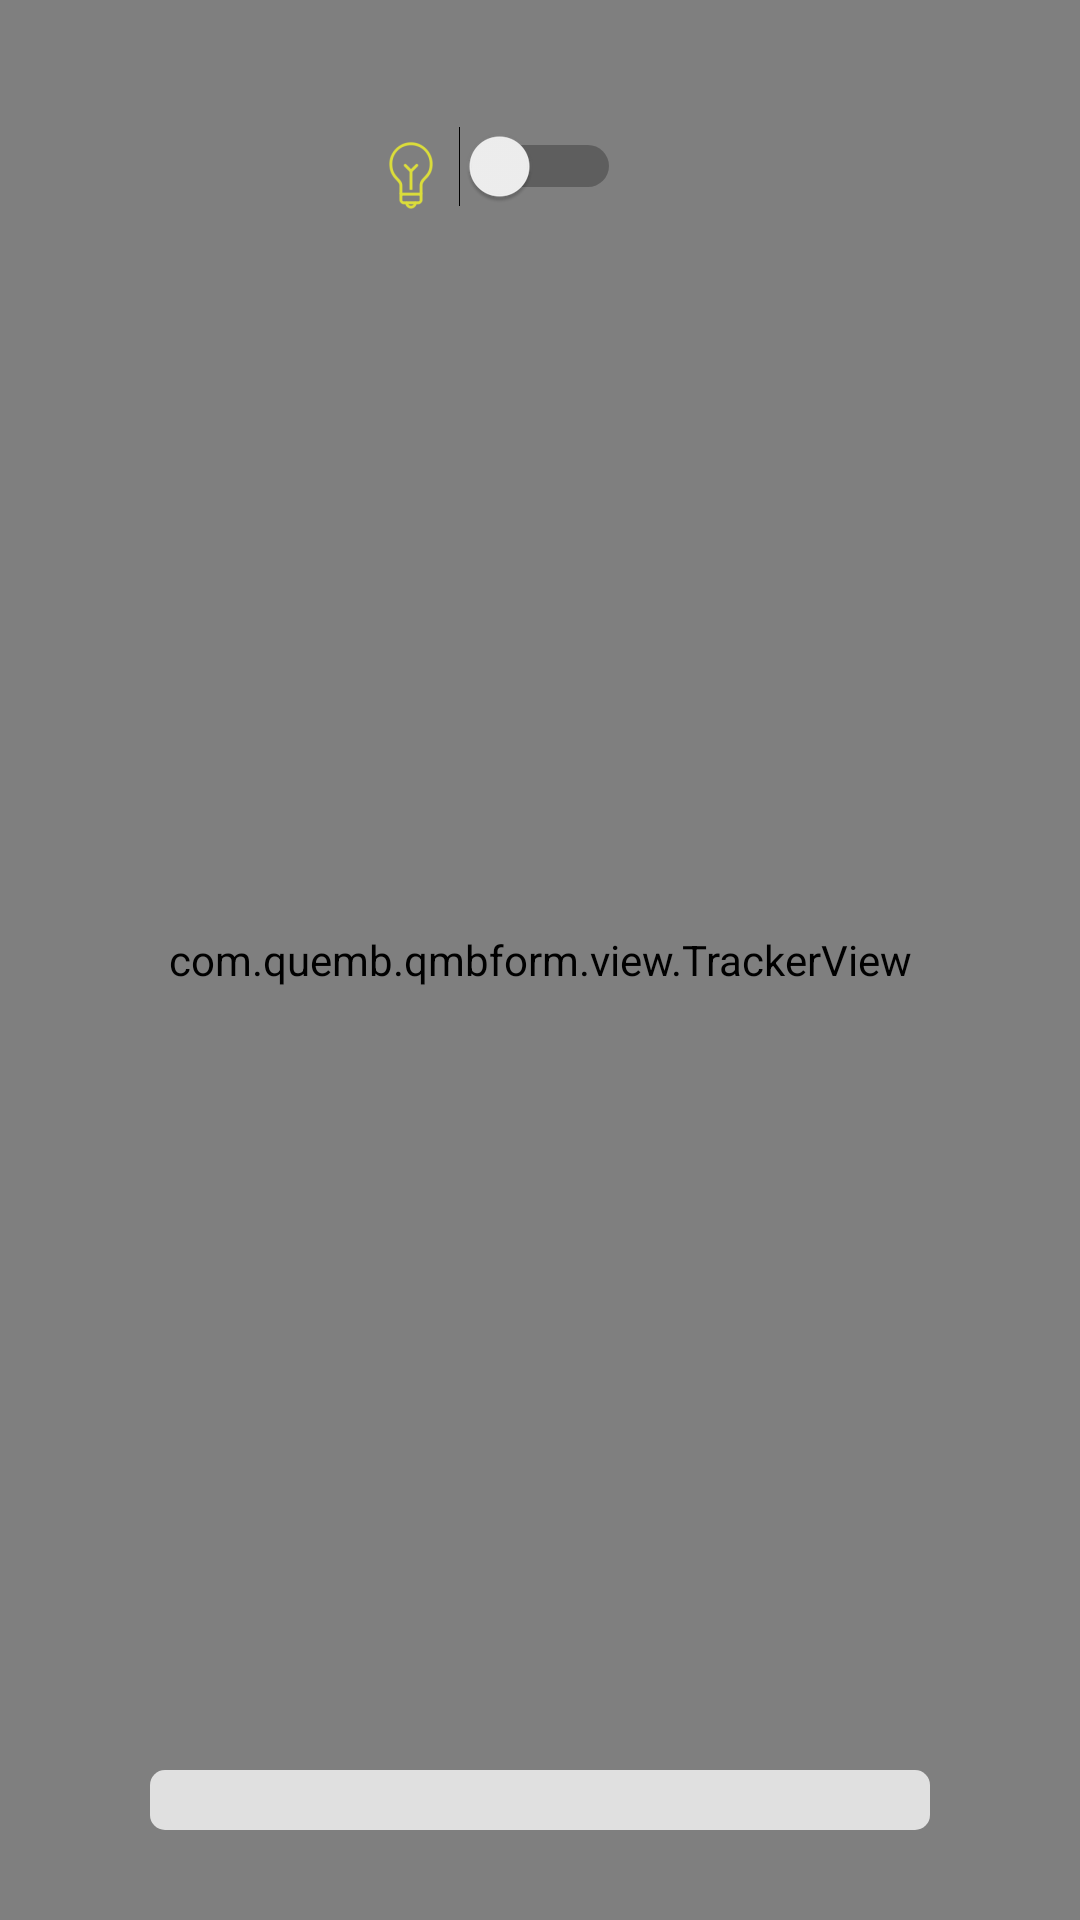

Icon bounding boxes for this 1080w x 1920h phone screenshot, format (x1,y1,x2,y2):
image for the torch control: (389,142,433,209)
